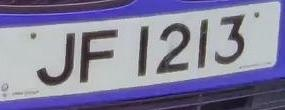1: (129, 16, 158, 88), (191, 12, 218, 74)
2: (154, 13, 196, 83)
3: (212, 8, 248, 70)
F: (76, 21, 121, 92)
J: (32, 25, 77, 92)
